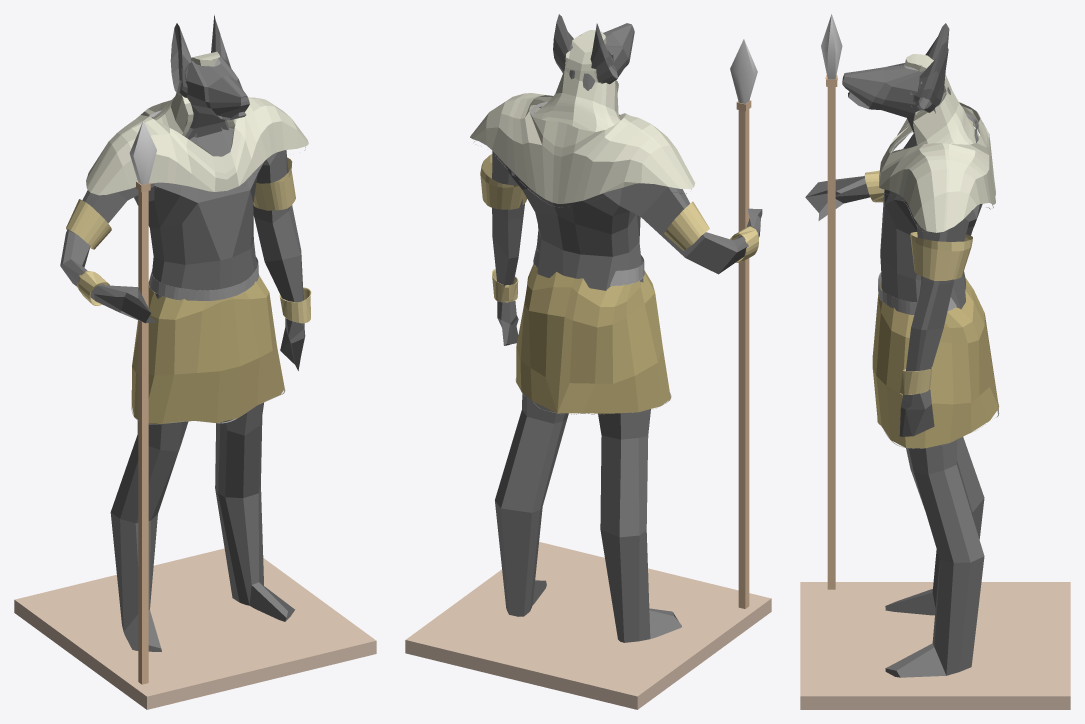
The model's file is Anubis_Statue.fbx.
3 views of the same model, side by side, from view 1: azimuth 30°, elevation 25°; view 2: azimuth 150°, elevation 25°; view 3: azimuth 270°, elevation 25° (orthographic). The views are drawn at different scales.
Parts seen in each view (by area): view 1: Body1; view 2: Body1; view 3: Body1.
Boxes of the visible parts, x1,y1,x2,y2 form: Body1: [14, 15, 376, 709]; Body1: [405, 14, 771, 709]; Body1: [800, 14, 1070, 709].
Size of the model in its own units: 72.15 by 164 by 64.7.
